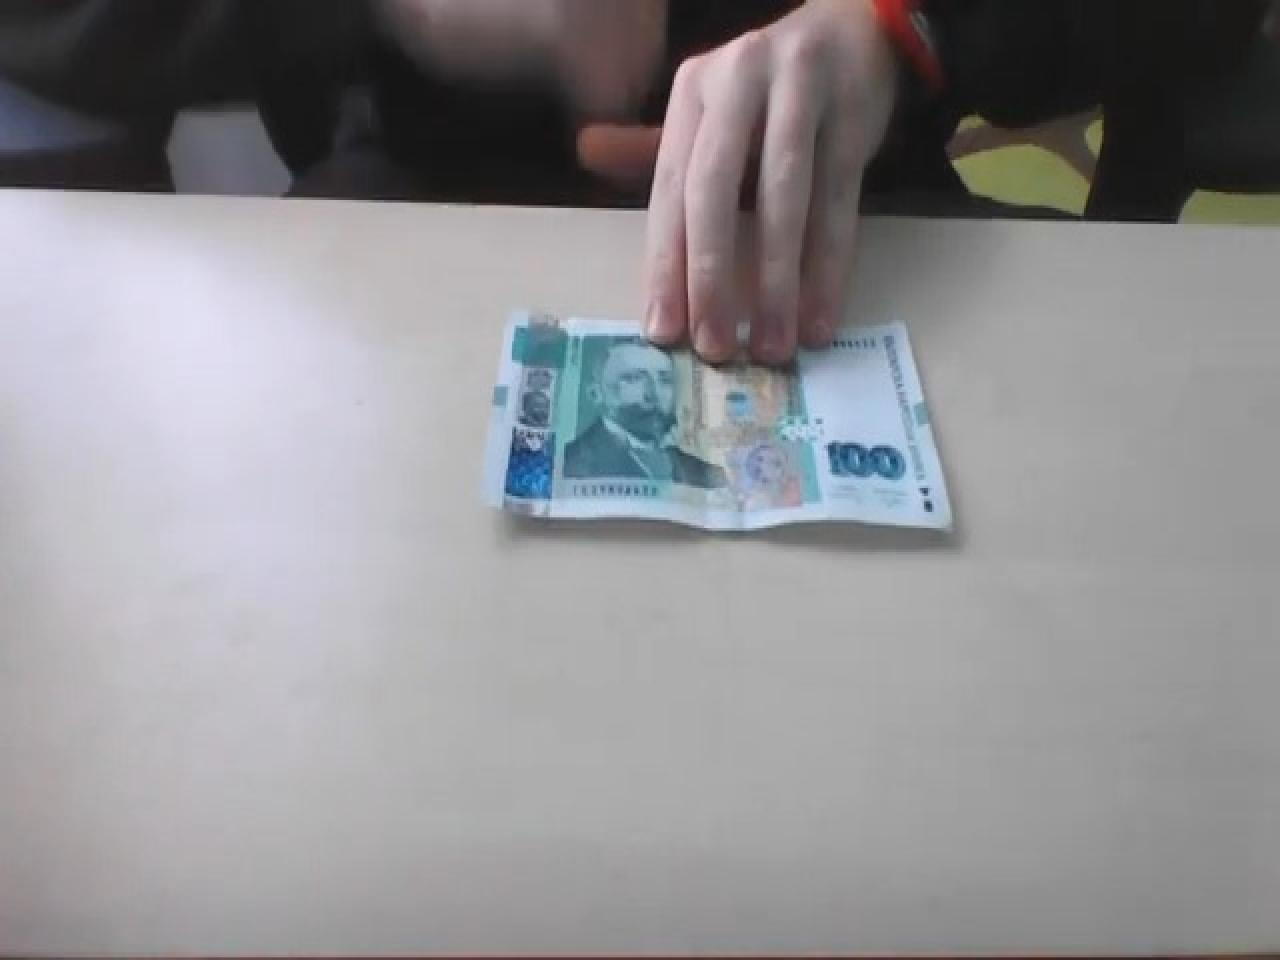100leva: (488, 315, 958, 544)
